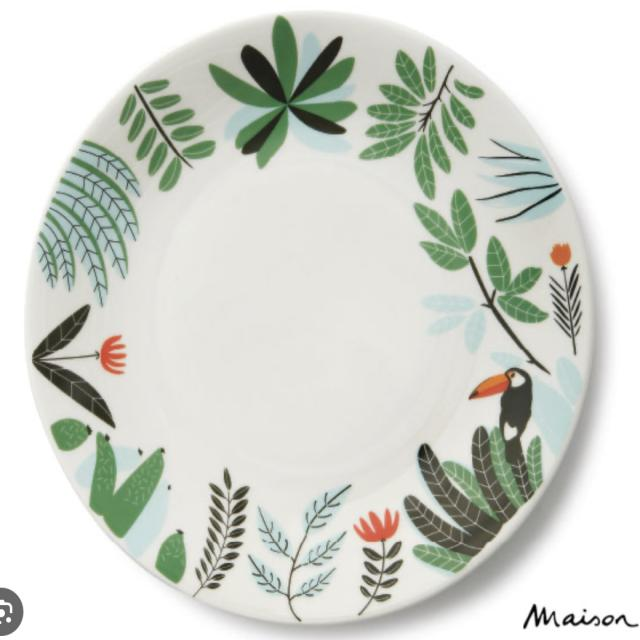recyclable: (23, 4, 599, 630)
